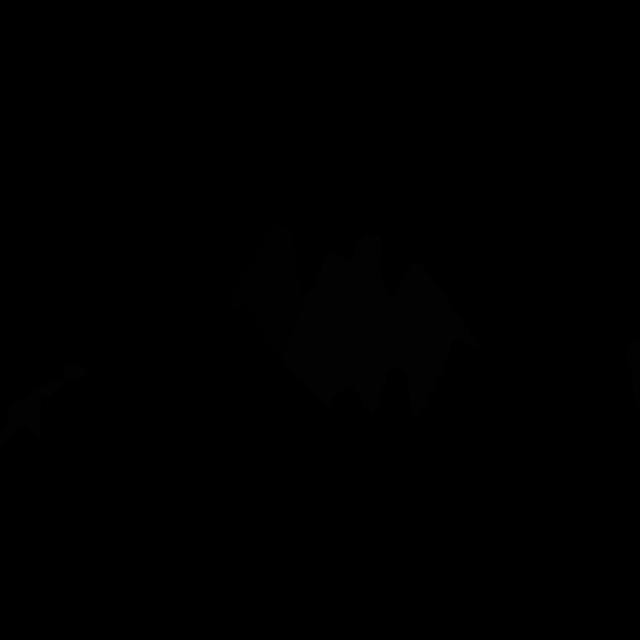cardboard: (281, 234, 478, 418), (0, 362, 89, 448), (626, 337, 640, 407)
rigid_plastic: (230, 224, 303, 358)
